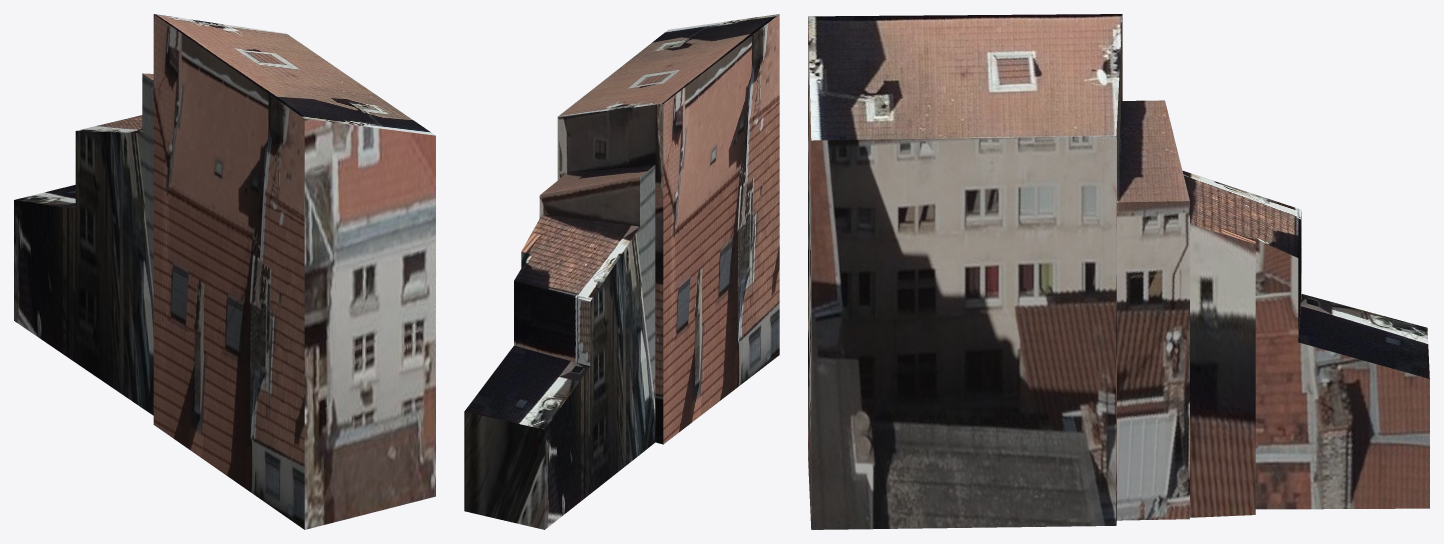
3 renders of one model, left to right at view 1: azimuth 30°, elevation 25°; view 2: azimuth 150°, elevation 25°; view 3: azimuth 270°, elevation 25°, orthographic. The views are drawn at different scales.
Parts seen in each view (by area): view 1: Z_UP; view 2: Z_UP; view 3: Z_UP.
Part boxes in pixels (x1,y1,x2,y2): Z_UP: [14, 14, 435, 529]; Z_UP: [464, 14, 779, 529]; Z_UP: [808, 14, 1429, 529].
Bounding box in the file's own units: 6.85 × 19.47 × 24.72.
Materials: 2 (1 with a texture image).
